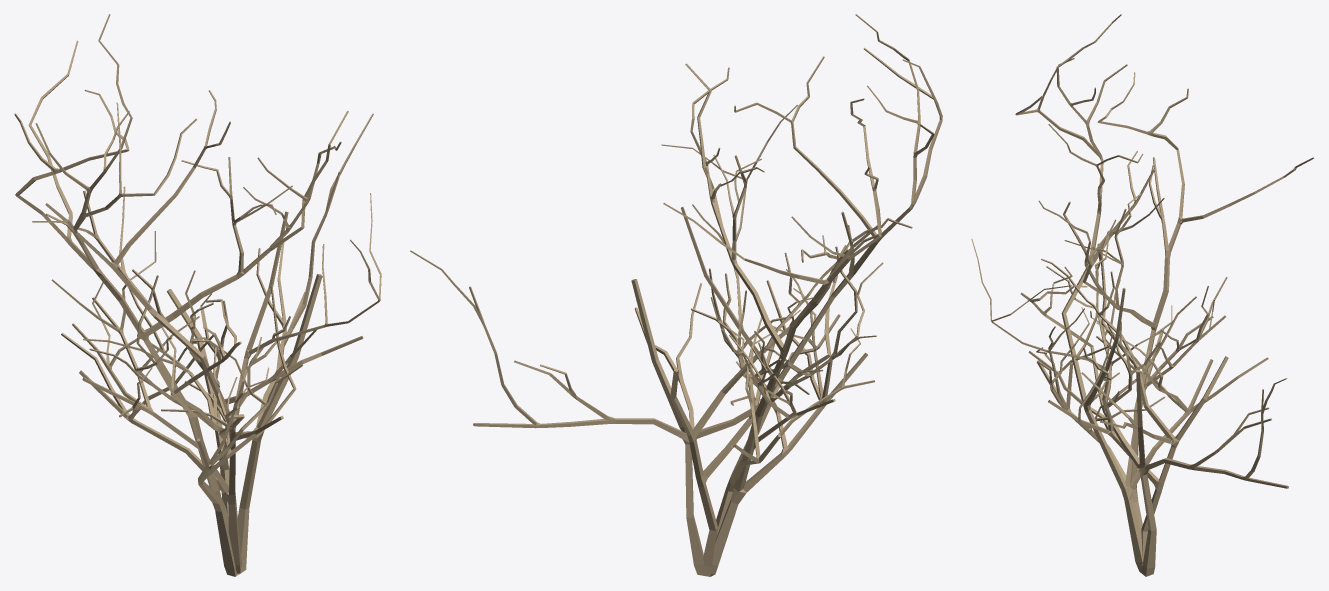
The picture shows the model from 3 angles, left to right: view 1: azimuth 30°, elevation 25°; view 2: azimuth 150°, elevation 25°; view 3: azimuth 270°, elevation 25°; orthographic projection. The views are drawn at different scales.
Size of the model in its own units: 2.45 by 3.25 by 2.01.
